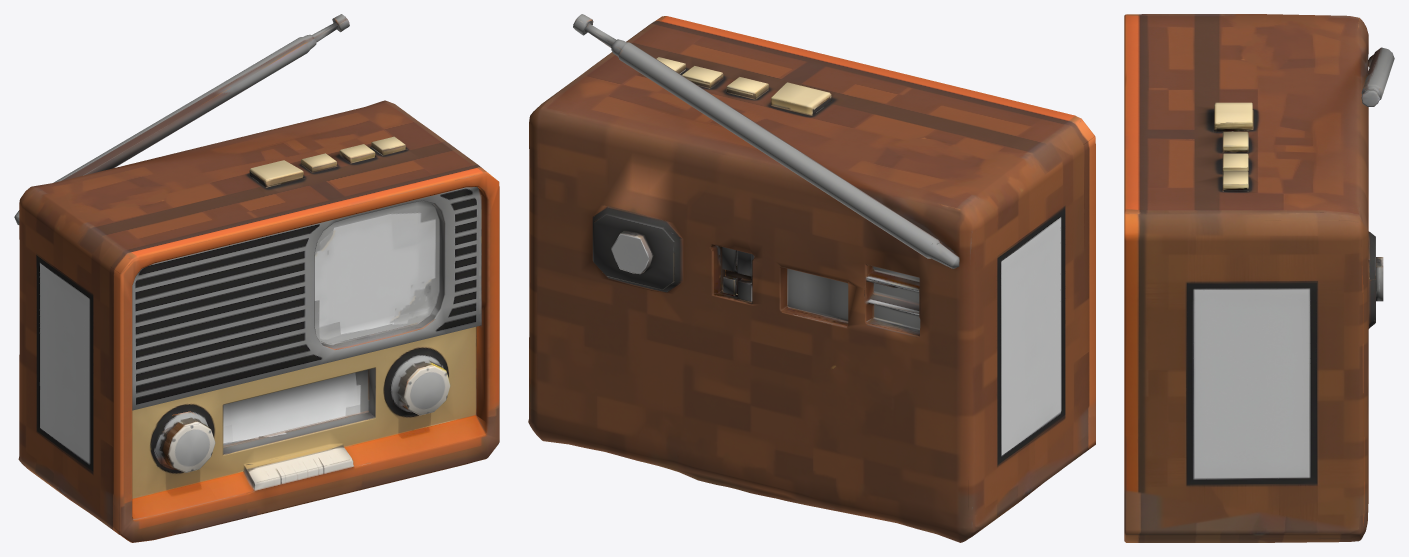
Rendered from Meshy_AI_Vintage_Radio_Artwork_0129180334_texture.fbx.
3 views of the same model, side by side, from view 1: azimuth 30°, elevation 25°; view 2: azimuth 150°, elevation 25°; view 3: azimuth 270°, elevation 25° (orthographic). The views are drawn at different scales.
Visible parts, largest first — view 1: Mesh_0; view 2: Mesh_0; view 3: Mesh_0.
Part boxes in pixels (<box>): Mesh_0: <box>14,14,499,542</box>; Mesh_0: <box>528,14,1095,542</box>; Mesh_0: <box>1124,14,1394,542</box>.
Size of the model in its own units: 106 by 100 by 56.86.
1 material, 1 textured.
